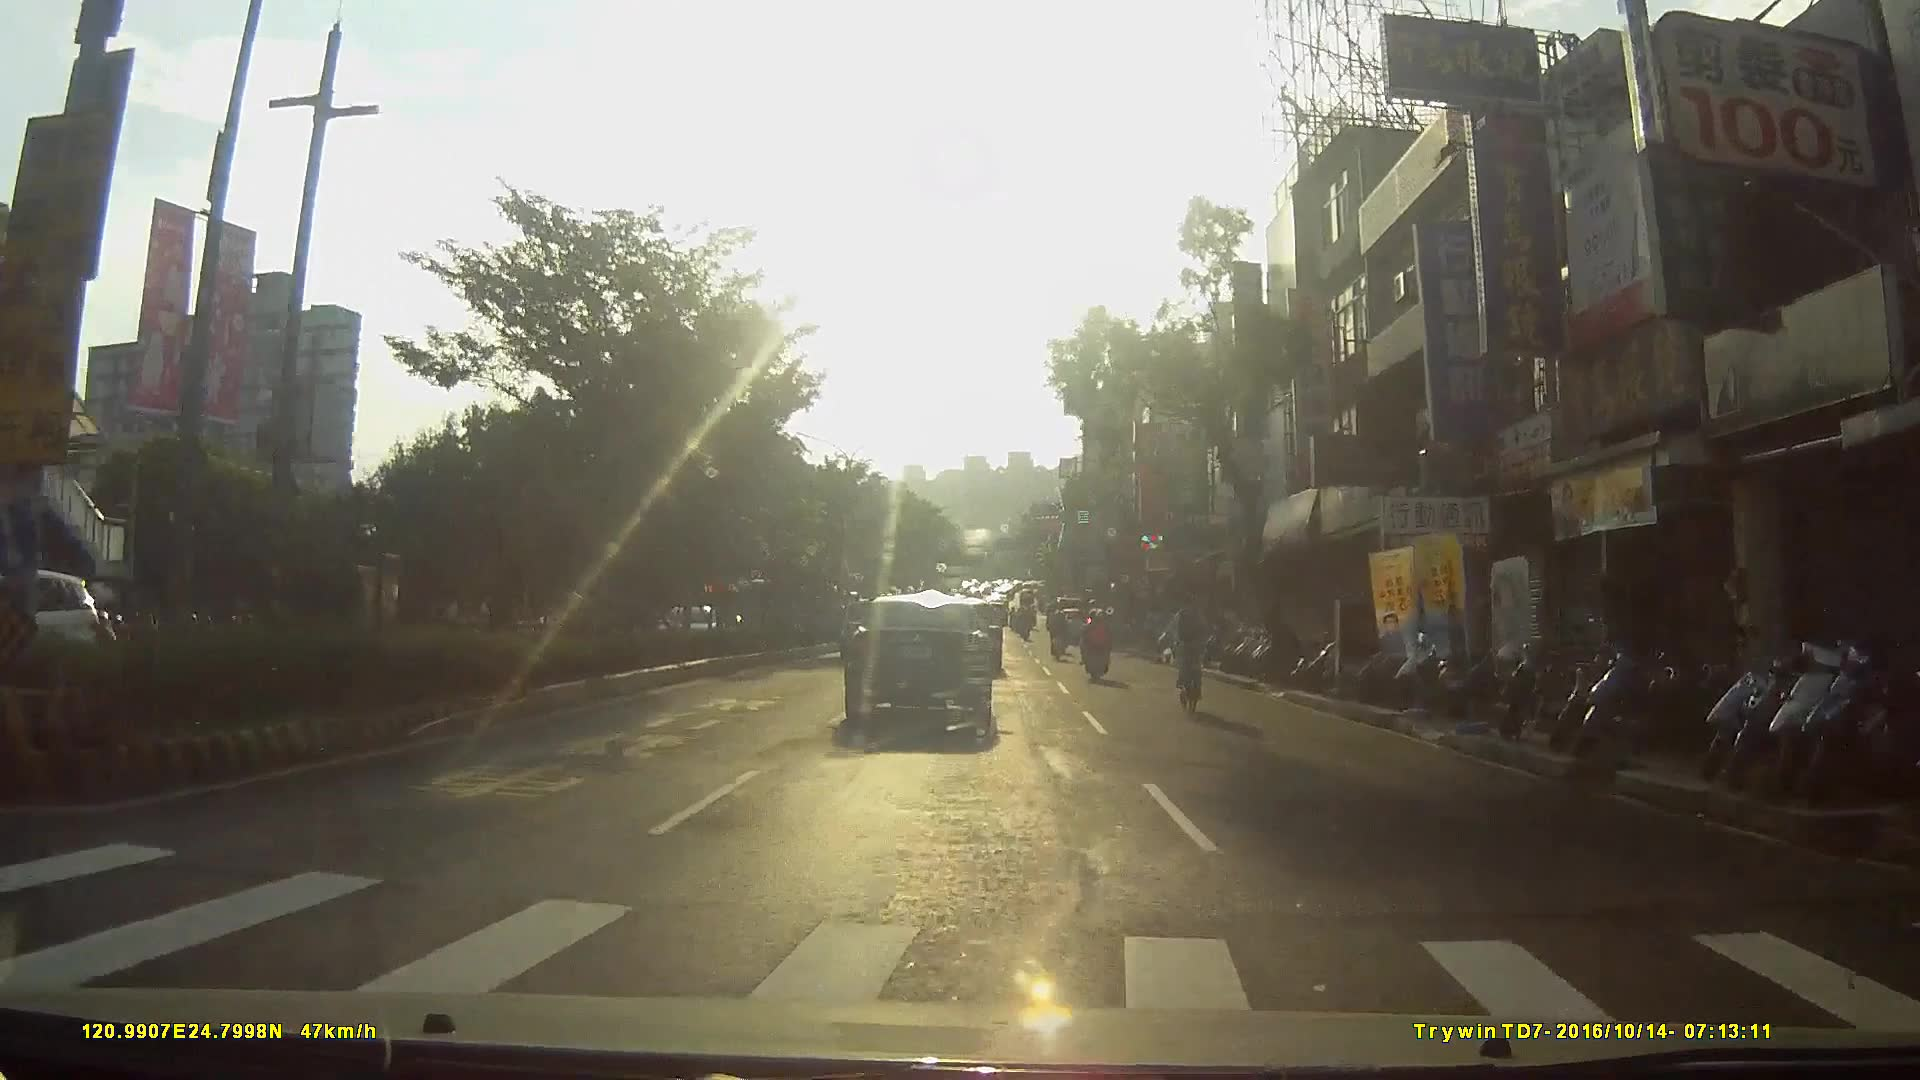rider: (1164, 586, 1220, 715), (1081, 612, 1115, 688), (1046, 610, 1071, 663)
vehicle: (843, 606, 1006, 751)
